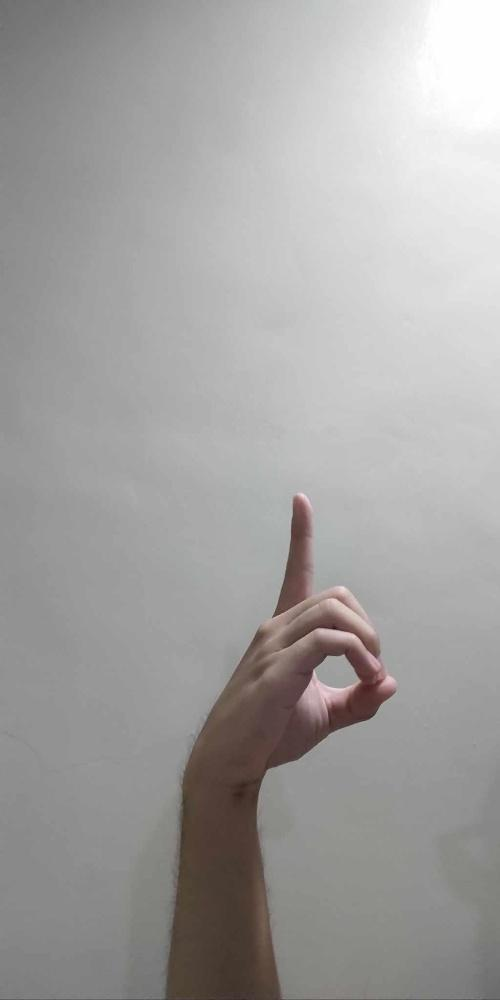d: (181, 489, 401, 782)
